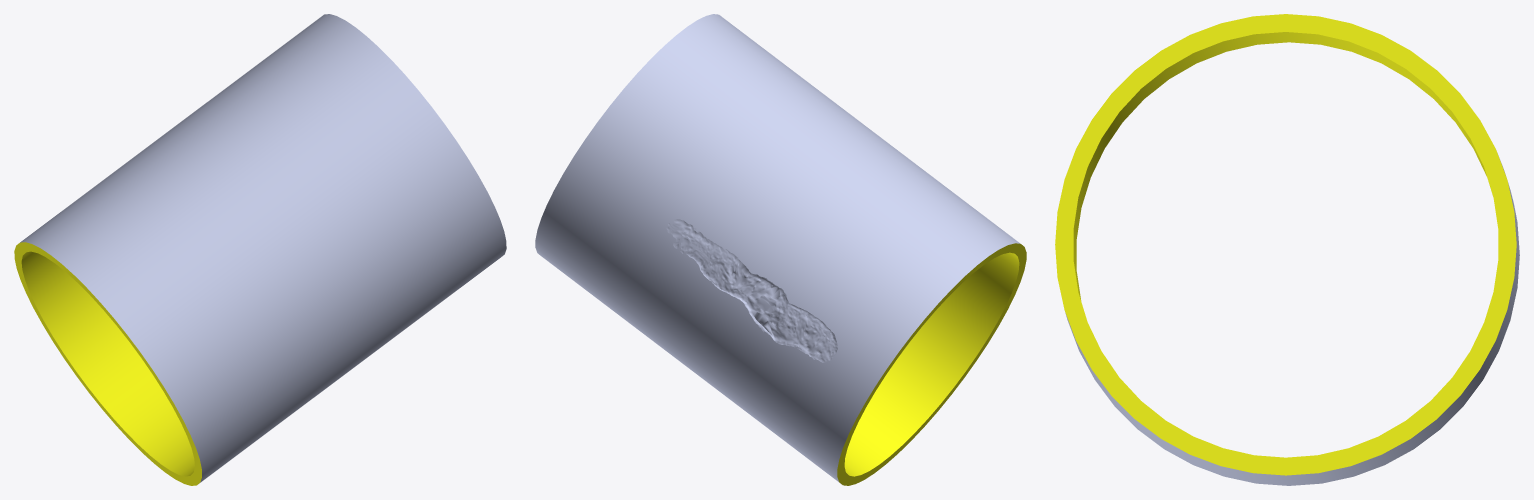
The model's file is Unnamed-DEFECT_SURFACE-Freecad.gltf.
3 renders of one model, left to right at view 1: azimuth 30°, elevation 25°; view 2: azimuth 150°, elevation 25°; view 3: azimuth 270°, elevation 25°, orthographic. The views are drawn at different scales.
Visible parts, largest first — view 1: DEFECT_SURFACE; view 2: DEFECT_SURFACE; view 3: DEFECT_SURFACE.
Part boxes in pixels (x1,y1,x2,y2): DEFECT_SURFACE: (14,14,506,485); DEFECT_SURFACE: (535,14,1026,485); DEFECT_SURFACE: (1055,14,1519,485).
Bounding box in the file's own units: 0.2722 × 0.2491 × 0.171.
